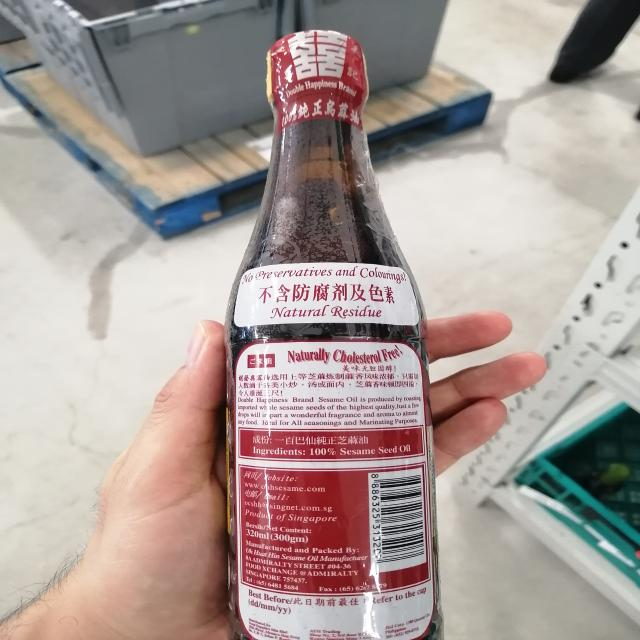object_name: (226, 36, 442, 640)
